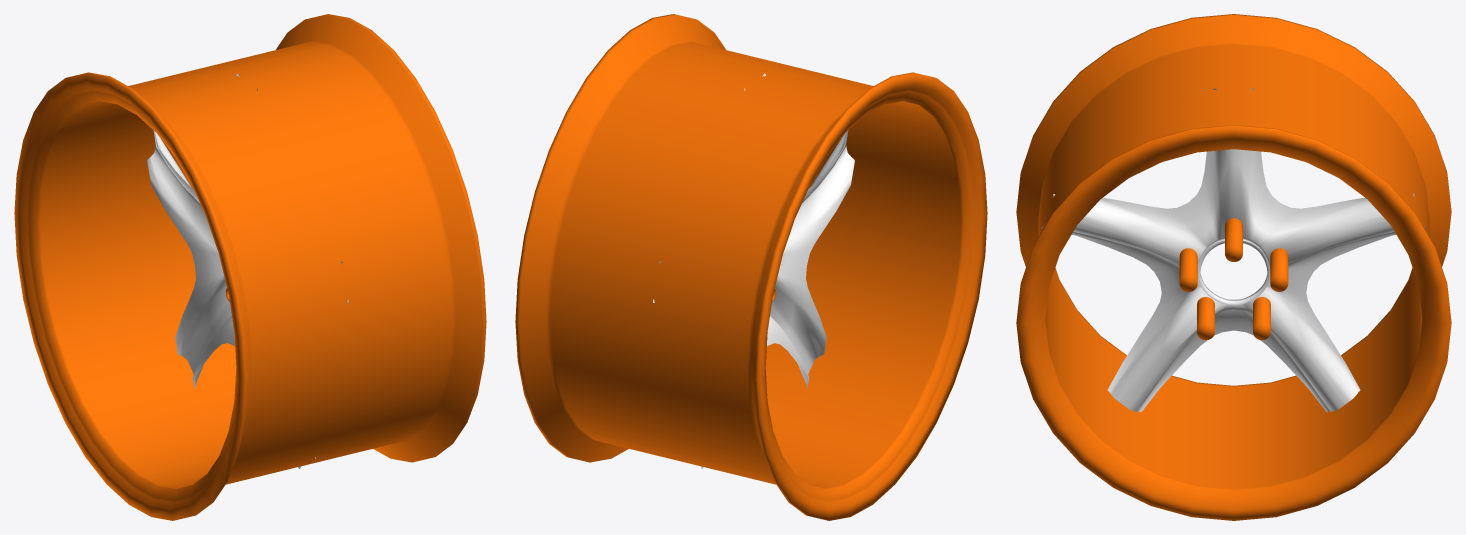
The model's file is FelgaStandard8.fbx.
3 views of the same model, side by side, from view 1: azimuth 30°, elevation 25°; view 2: azimuth 150°, elevation 25°; view 3: azimuth 270°, elevation 25° (orthographic). The views are drawn at different scales.
Parts seen in each view (by area): view 1: Cylinder, Circle.002; view 2: Cylinder, Circle.002; view 3: Cylinder, Circle.002, Cylinder.004.
Part boxes in pixels (<box>): Cylinder: <box>14,14,486,520</box>; Circle.002: <box>147,73,348,468</box>; Cylinder: <box>515,14,987,520</box>; Circle.002: <box>653,73,854,468</box>; Cylinder: <box>1016,14,1451,520</box>; Circle.002: <box>1041,88,1426,412</box>; Cylinder.004: <box>1179,218,1288,340</box>.
Bounding box in the file's own units: 1.23 × 2 × 2.
